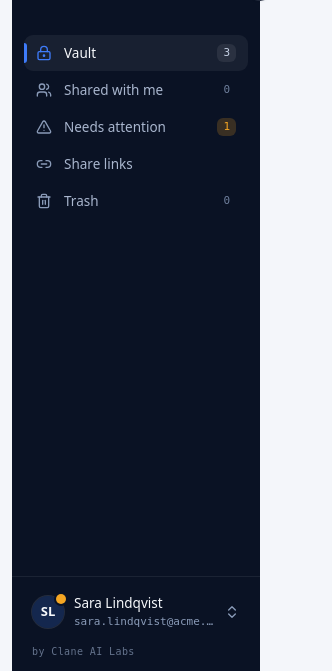
Test: account menu (sidebar footer) › admins (and instance admins) get Admin, with the count of people waiting
What coordinates should you click on to do the following:
click the button with aria-label "Account menu"
I would click on:
 (136, 612)
Its box is left=24, top=585, right=248, bottom=638.
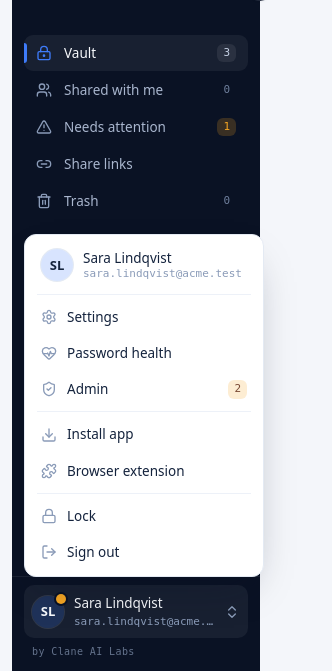
expect the menu item "Admin 2" is shown: met
What coordinates should you click on to do the following:
click the menu item "Admin 2"
I would click on:
 (88, 389)
Its box is left=41, top=380, right=247, bottom=398.
(page scrolled)
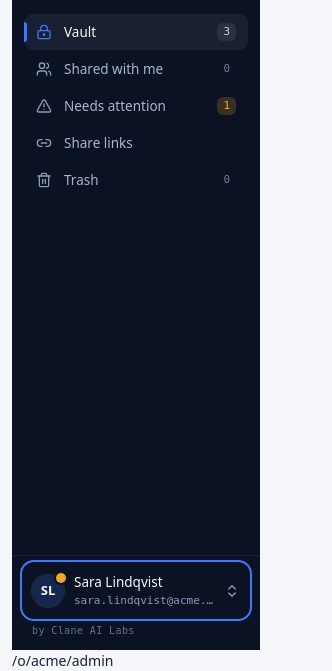
expect the text with test id "where" reads "/o/acme/admin": met, box left=12, top=651, right=114, bottom=670
